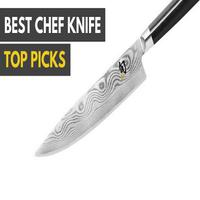knife: (32, 1, 182, 163)
